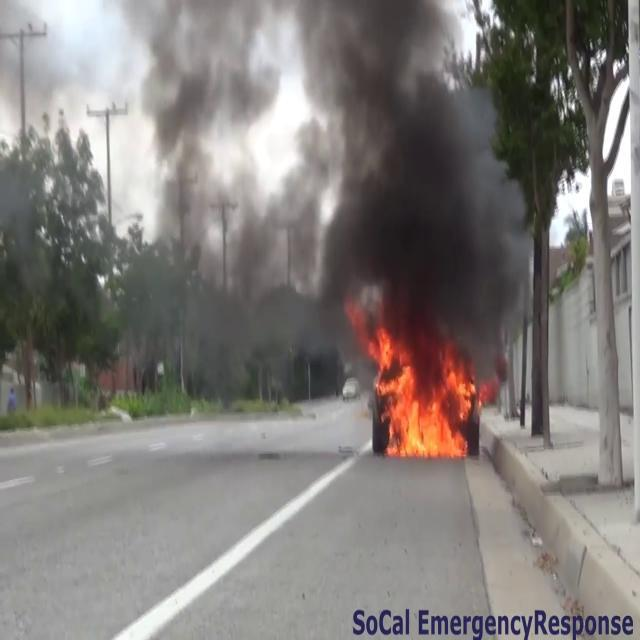Fire: (367, 326, 480, 462)
Smoke: (115, 0, 526, 356)
